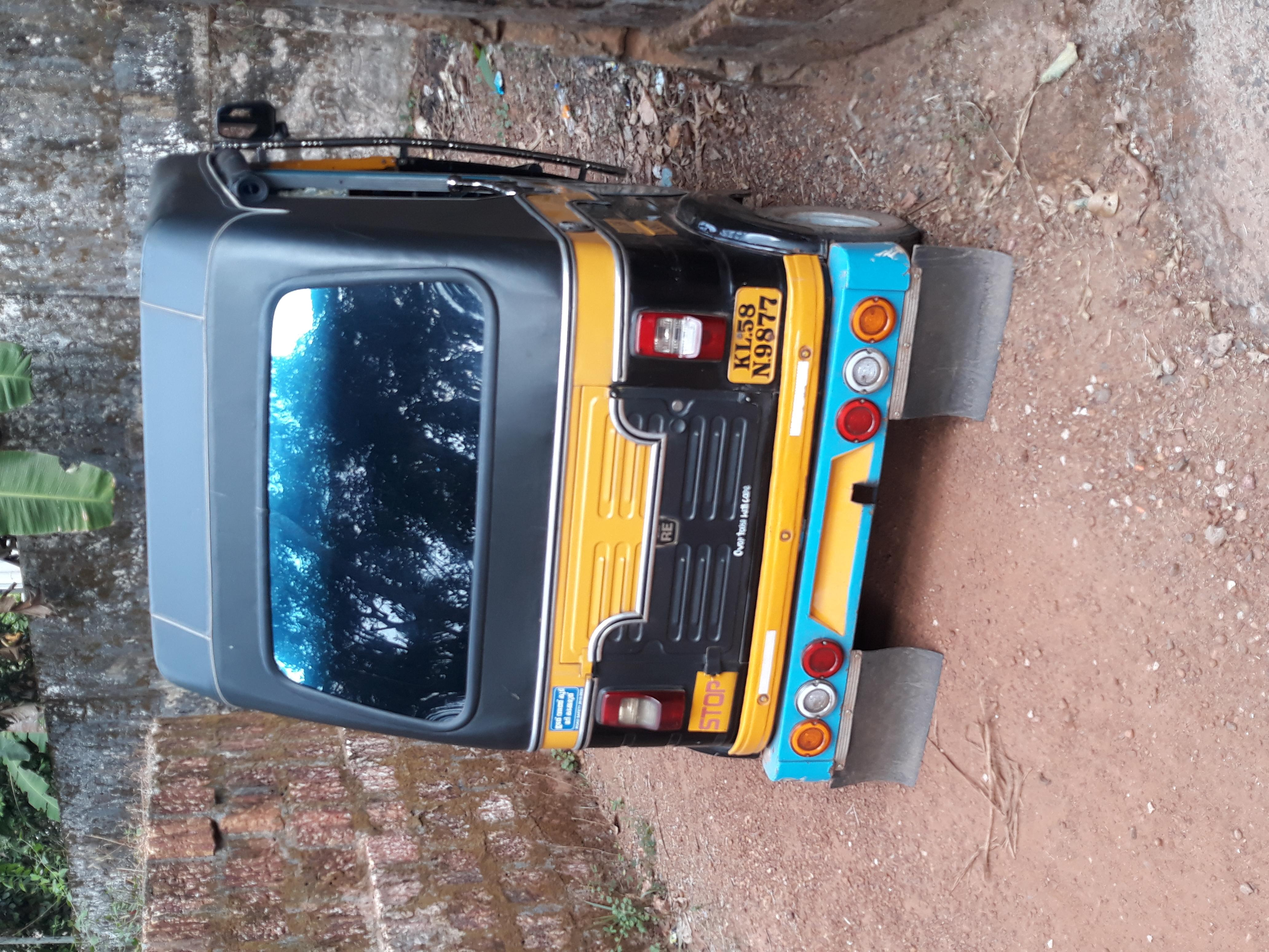Auto: (172, 95, 1160, 726)
